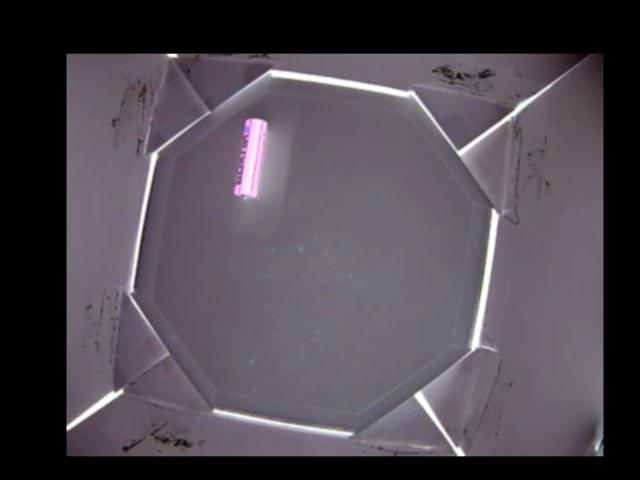Battery: (233, 117, 270, 198)
